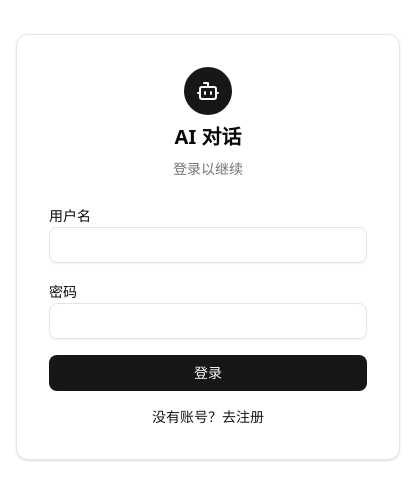
AuthPage › 登录失败显示错误信息
The width and height of the screenshot is (417, 496).
Type "e2e" into the field labelled "用户名" at [208, 245], box [49,227,367,263]
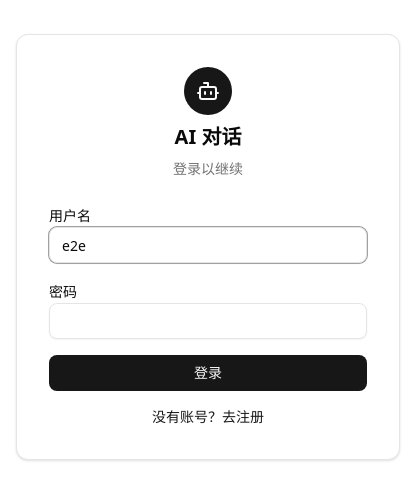
Type "wrong" into the password field labelled "密码" at [208, 321], box [49,303,367,339]
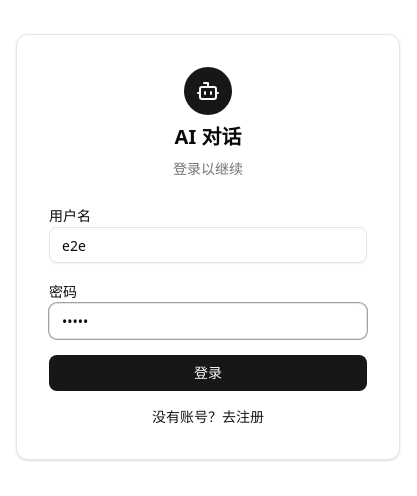
Click the button "登录" at [208, 373], box [49,355,367,391]
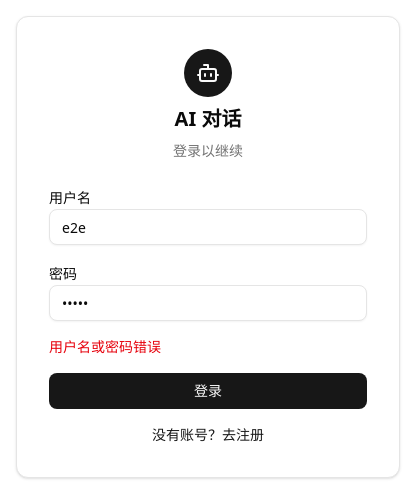
Check: the text "用户名或密码错误" is shown, box [49,337,161,356]
